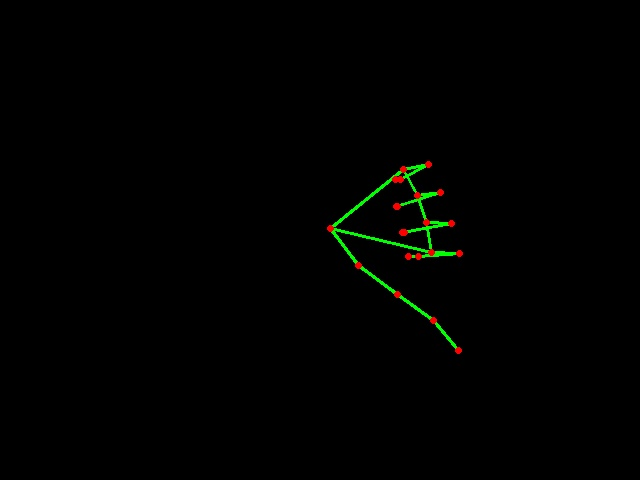slow: (325, 145, 475, 359)
